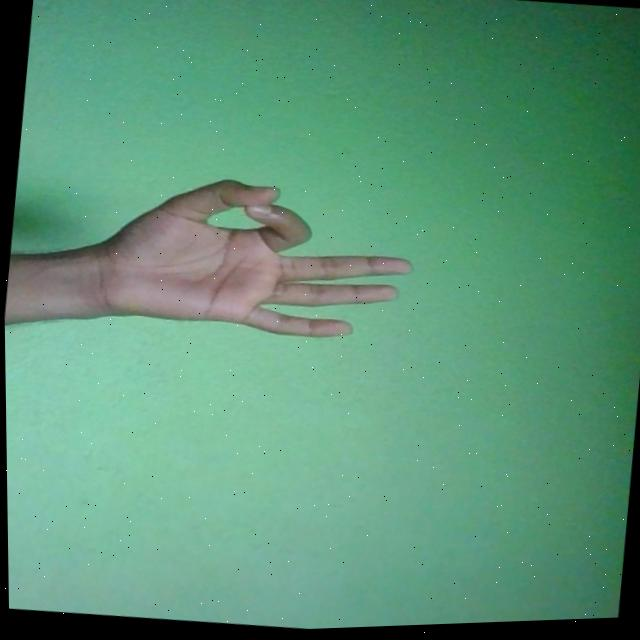Ok: (83, 160, 420, 357)
